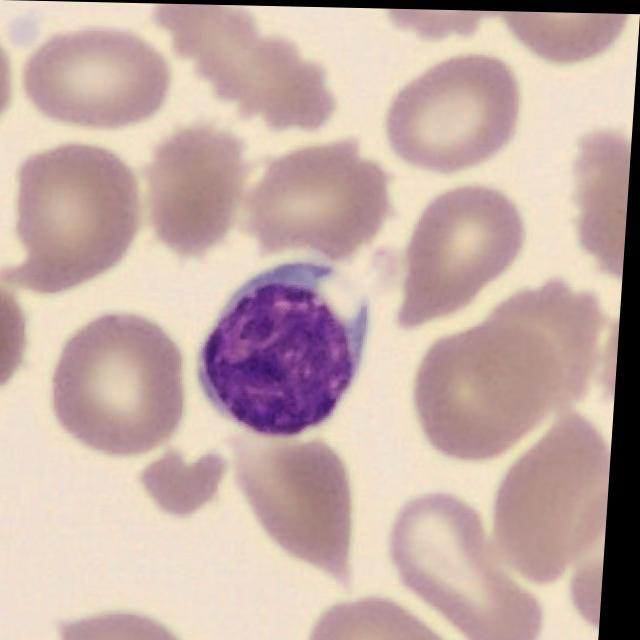Linfocito: (204, 275, 374, 439)
